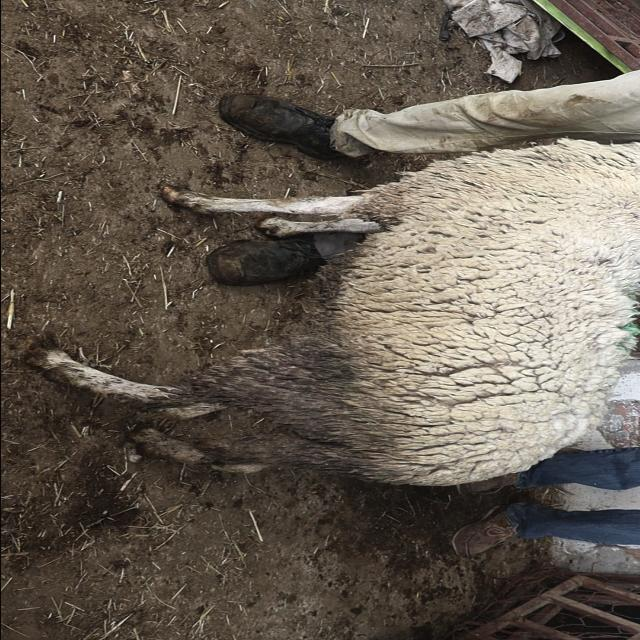Score_3: (30, 139, 640, 486)
